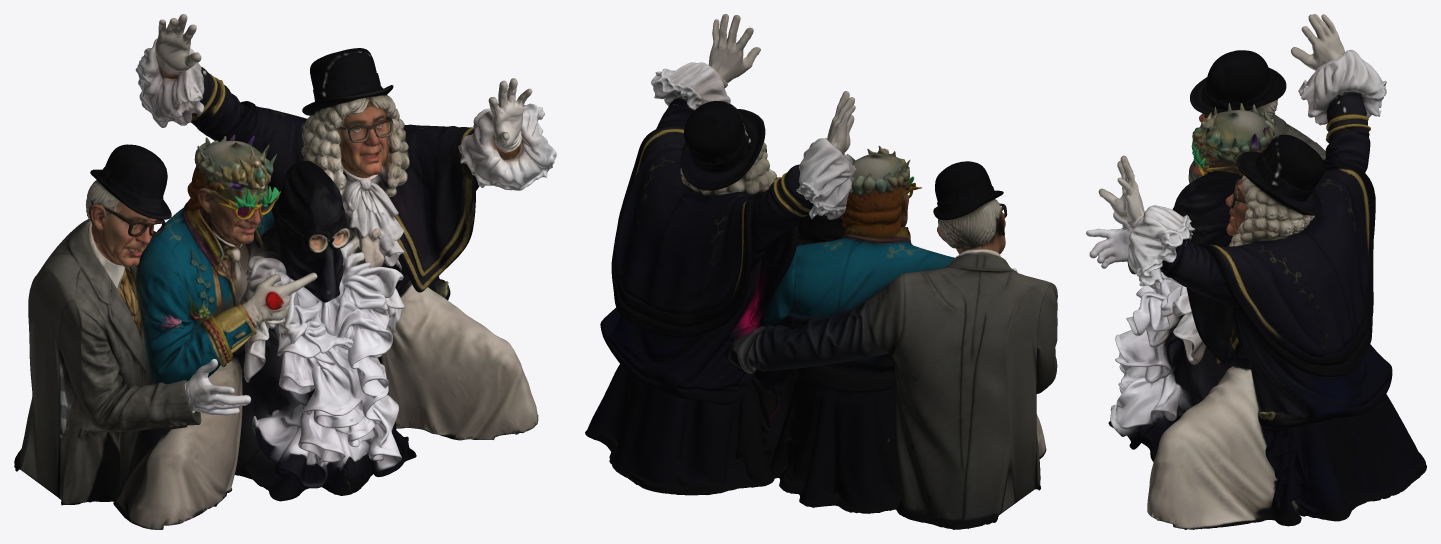
Rendered from fasnik.opt.glb.
3 views of the same model, side by side, from view 1: azimuth 30°, elevation 25°; view 2: azimuth 150°, elevation 25°; view 3: azimuth 270°, elevation 25° (orthographic). The views are drawn at different scales.
Visible parts, largest first — view 1: world; view 2: world; view 3: world.
Part boxes in pixels (x1,y1,x2,y2): world: [14, 14, 556, 529]; world: [585, 14, 1057, 529]; world: [1086, 14, 1426, 529].
Size of the model in its own units: 0.9998 by 0.8945 by 0.7115.
1 material, 1 textured.
